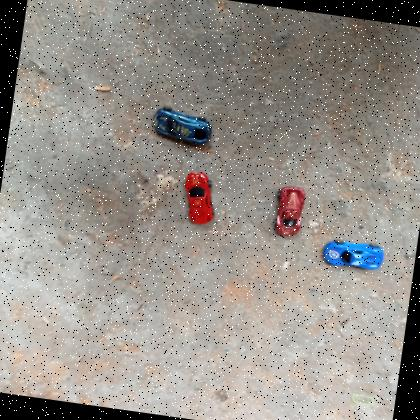Car: (320, 234, 388, 275), (148, 106, 214, 146), (179, 169, 220, 228), (270, 182, 310, 241)
